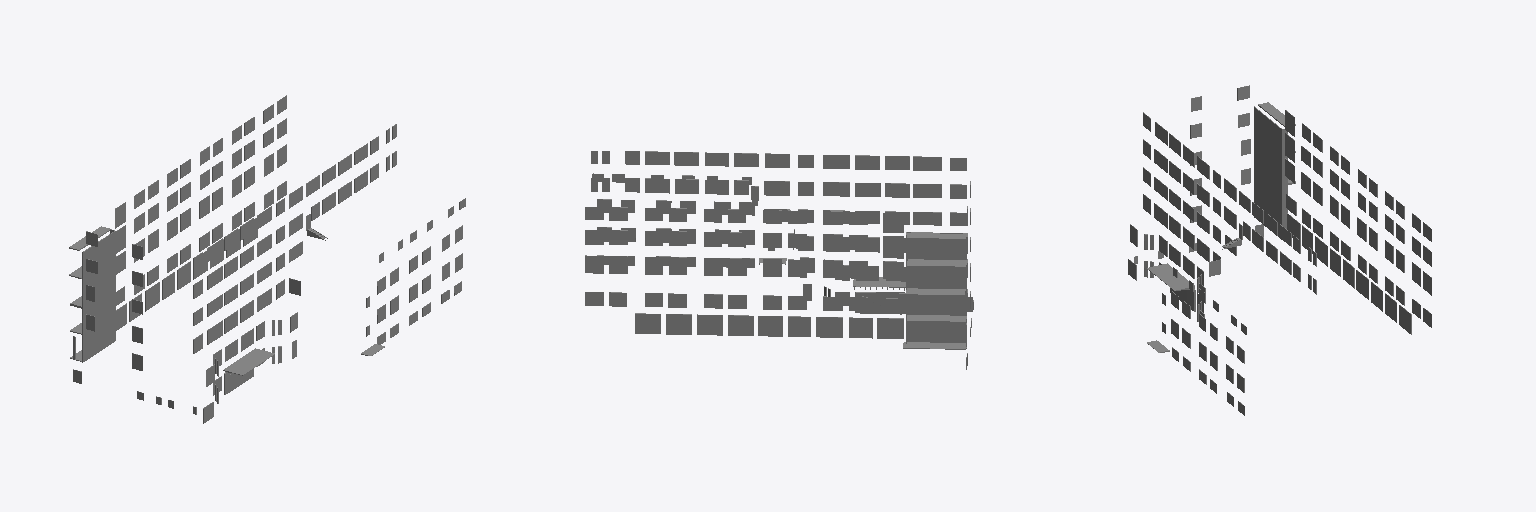
File: boli.obj
The picture shows the model from 3 angles: view 1: azimuth 30°, elevation 25°; view 2: azimuth 150°, elevation 25°; view 3: azimuth 270°, elevation 25°; orthographic projection.
Parts seen in each view (by area): view 1: Box160, Box144; view 2: Box160; view 3: Box160, Box144.
Boxes of the visible parts, x1,y1,x2,y2 form: Box160: [82, 231, 115, 362]; Box144: [223, 348, 274, 375]; Box160: [907, 232, 966, 342]; Box160: [1254, 106, 1282, 239]; Box144: [1147, 263, 1194, 290].
Bounding box in the file's own units: 56.65 × 22.62 × 38.8.